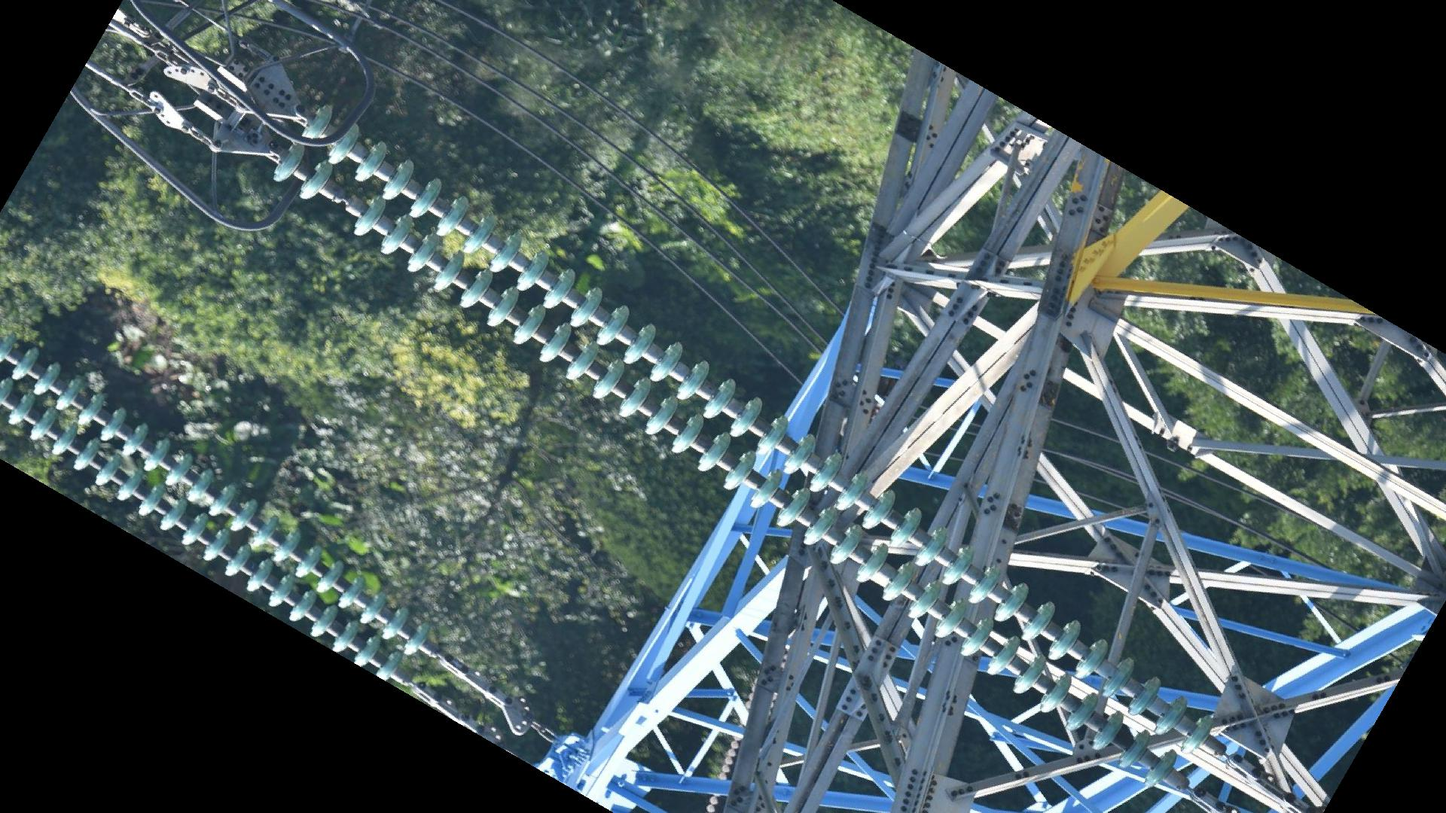insulator: (265, 98, 1222, 796), (1, 329, 438, 687)
insulator_stringdrop: (297, 158, 389, 244)
